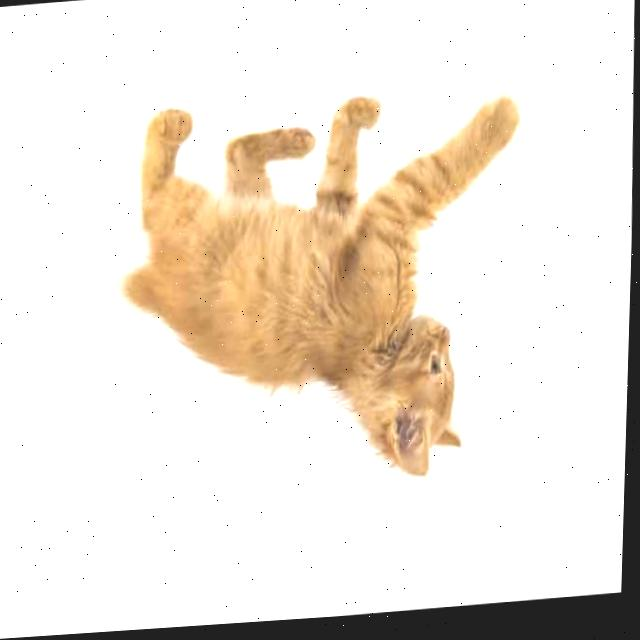American Bobtail: (104, 82, 532, 513)
